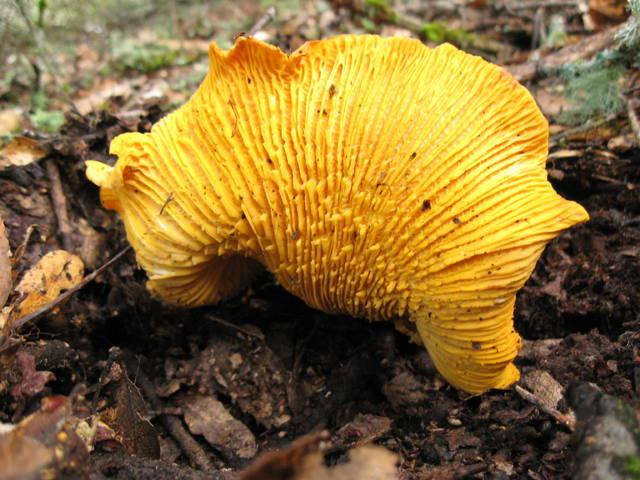edible_mushroom: (84, 31, 590, 395)
